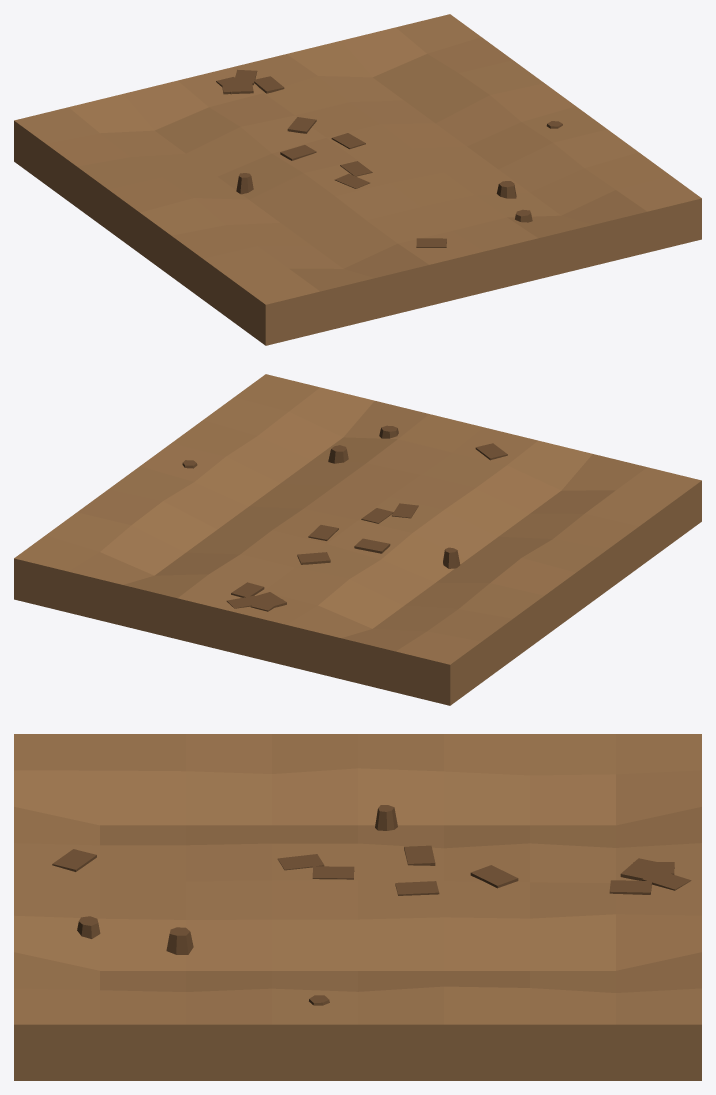
The model's file is SM_Ground_Road_Tracks.obj.
The picture shows the model from 3 angles, top to bottom: view 1: azimuth 30°, elevation 25°; view 2: azimuth 150°, elevation 25°; view 3: azimuth 270°, elevation 25°; orthographic projection. The views are drawn at different scales.
Visible parts, largest first — view 1: SM_Ground_Road_Tracks; view 2: SM_Ground_Road_Tracks; view 3: SM_Ground_Road_Tracks.
Part boxes in pixels (x1,y1,x2,y2): SM_Ground_Road_Tracks: [14, 14, 701, 345]; SM_Ground_Road_Tracks: [14, 374, 701, 705]; SM_Ground_Road_Tracks: [14, 734, 701, 1080].
Bounding box in the file's own units: 2 × 0.1917 × 2.
